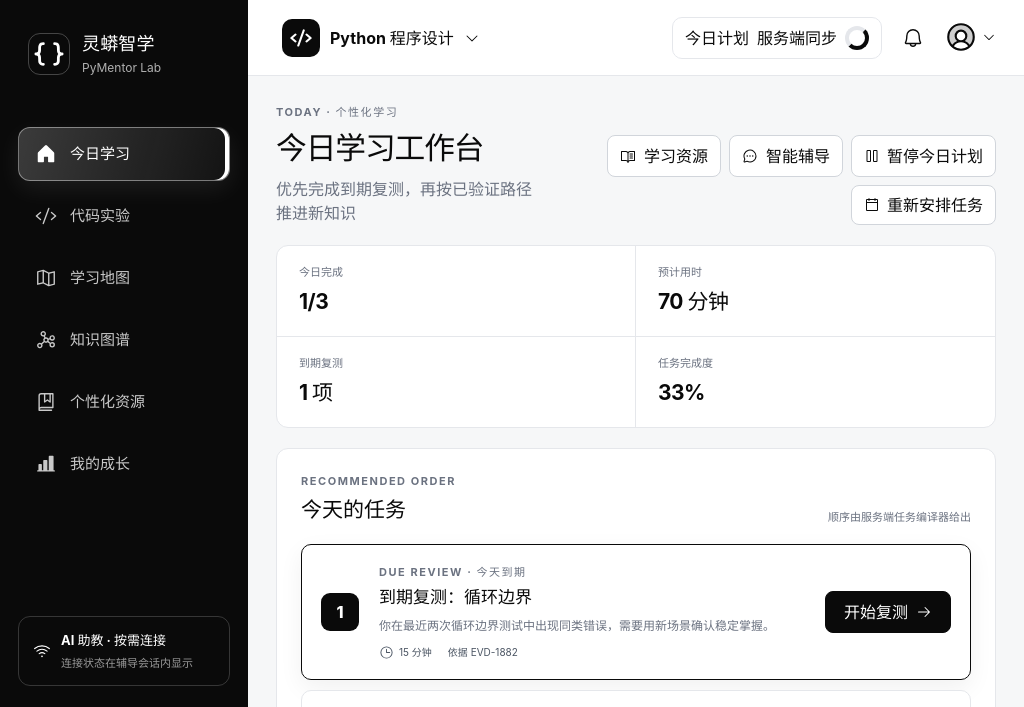
Test: student header button wiring (Stage C) › shows 暂无新通知 when both data sources are empty
Click the button named "通知".
click(913, 38)  # box [892,16,934,58]
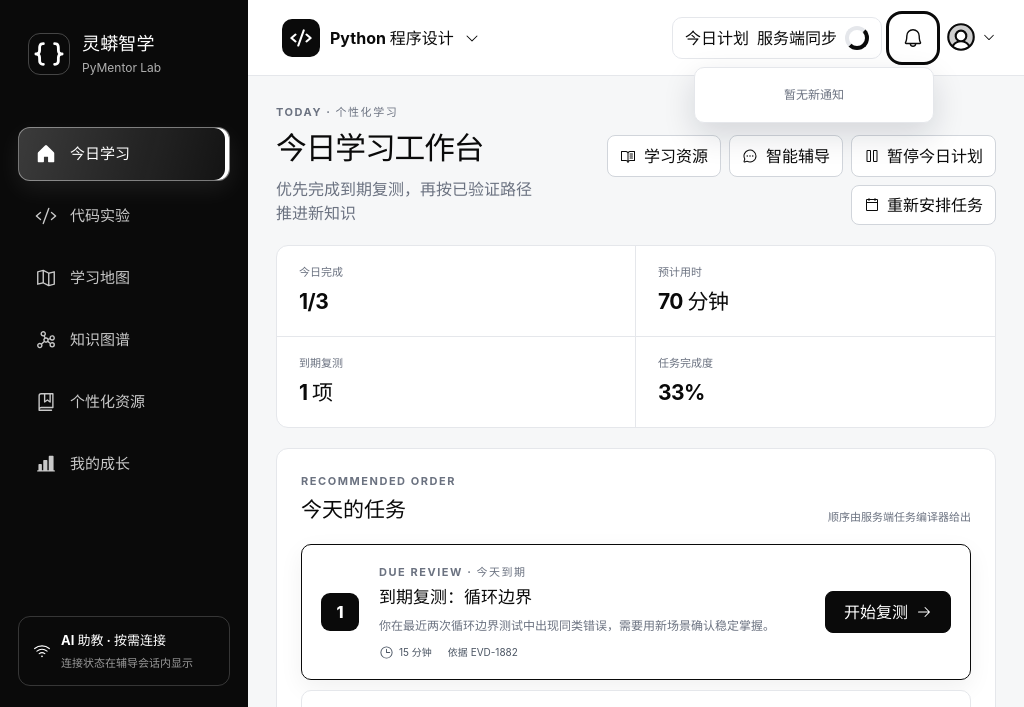
Expected: the menu named "通知中心" reads "暂无新通知", [784,86,844,102]
